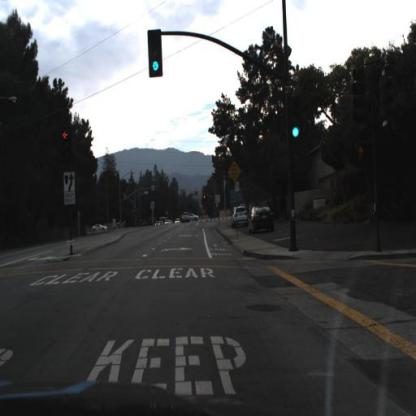car: (247, 205, 274, 235), (231, 205, 249, 230)
trafficLight-Green: (149, 32, 163, 77), (290, 100, 300, 142)
trafficLight-RedLeft: (60, 127, 72, 162)
